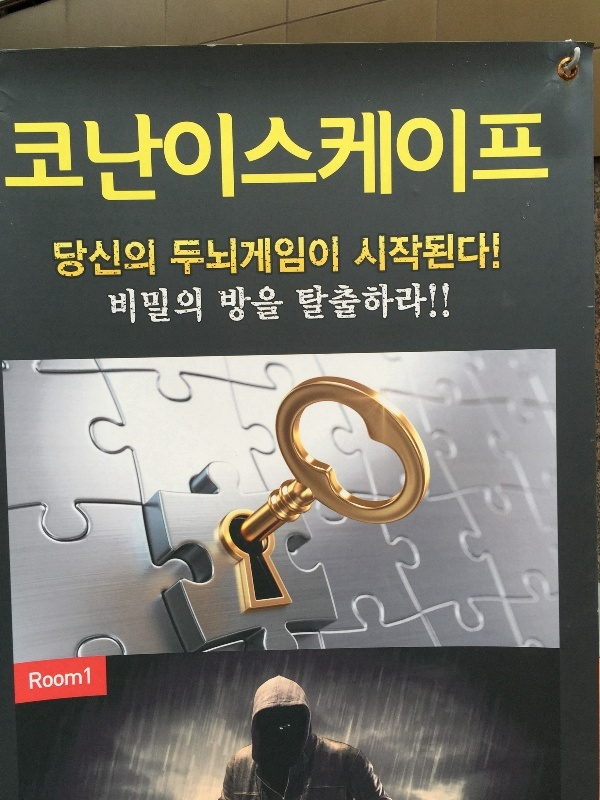text: (17, 107, 32, 211), (33, 107, 48, 211), (49, 107, 64, 211), (65, 107, 80, 211), (81, 107, 96, 211), (97, 107, 112, 211), (113, 107, 128, 211), (129, 107, 144, 211), (145, 107, 160, 211), (161, 107, 176, 211), (177, 107, 192, 211), (193, 107, 208, 211), (209, 107, 224, 211), (225, 107, 240, 211), (241, 107, 256, 211), (257, 107, 272, 211), (273, 107, 288, 211), (289, 107, 304, 211), (305, 107, 320, 211), (321, 107, 336, 211), (337, 107, 352, 211), (353, 107, 368, 211), (369, 107, 384, 211), (385, 107, 400, 211), (401, 107, 416, 211), (417, 107, 432, 211), (433, 107, 448, 211), (449, 107, 464, 211), (465, 107, 480, 211), (481, 107, 496, 211), (497, 107, 512, 211), (513, 107, 528, 211), (529, 107, 544, 211), (9, 107, 16, 211), (65, 237, 80, 281), (81, 237, 96, 281), (97, 237, 112, 281), (113, 237, 128, 281), (129, 237, 144, 281), (177, 234, 192, 278), (193, 234, 208, 278), (209, 234, 224, 278), (225, 234, 240, 278), (241, 234, 256, 278), (257, 234, 272, 278), (273, 234, 288, 278), (289, 234, 304, 278), (305, 234, 320, 278), (321, 234, 336, 278), (545, 107, 551, 211), (305, 281, 320, 322), (321, 281, 336, 322), (337, 281, 352, 322), (353, 281, 368, 322), (369, 281, 384, 322), (385, 281, 400, 322), (401, 281, 416, 322), (417, 281, 432, 322), (433, 281, 448, 322), (369, 232, 384, 273), (385, 232, 400, 273), (401, 232, 416, 273), (417, 232, 432, 273), (433, 232, 448, 273), (449, 232, 464, 273), (465, 232, 480, 273), (481, 232, 496, 273), (113, 285, 128, 325), (129, 285, 144, 325), (145, 285, 160, 325), (161, 285, 176, 325), (177, 285, 192, 325), (225, 285, 240, 324), (241, 285, 256, 324), (257, 285, 272, 324), (52, 237, 64, 281), (145, 237, 156, 281), (273, 285, 284, 324), (294, 281, 304, 322), (193, 285, 203, 325), (33, 668, 48, 694), (49, 668, 64, 694), (65, 668, 80, 694), (360, 232, 368, 273), (169, 234, 176, 278), (81, 668, 91, 694), (218, 285, 224, 324), (497, 232, 501, 273), (108, 285, 112, 325), (337, 234, 339, 278), (449, 281, 451, 322), (29, 668, 32, 694)
